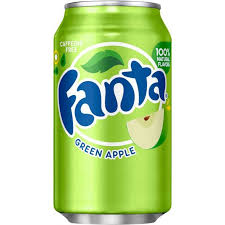can: (54, 1, 172, 224)
